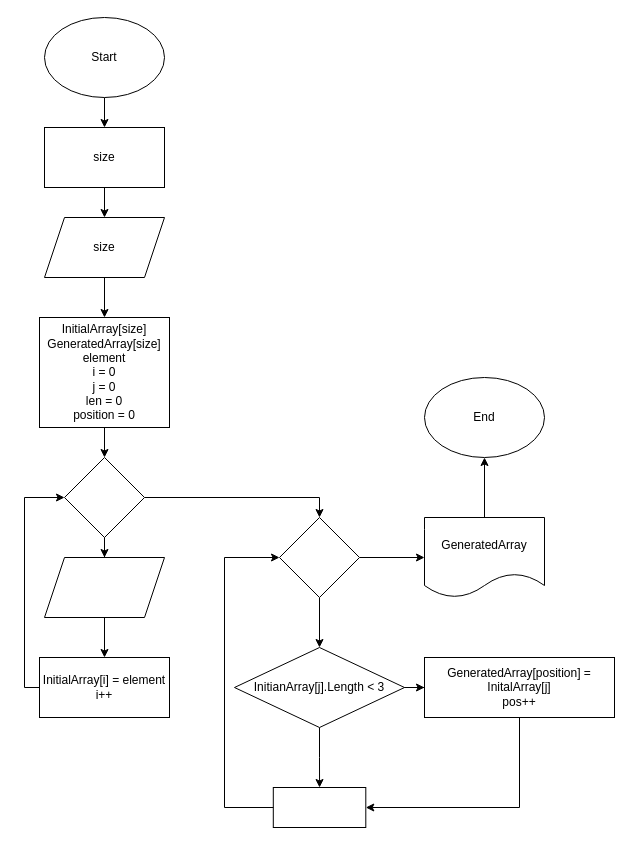
This 632x845 diagram has some shape labels left out. Each missing label, with the box of its shape:
element: (44, 556, 164, 618)
i < size: (64, 456, 144, 538)
j < size: (278, 516, 360, 598)
j++: (272, 786, 366, 828)
